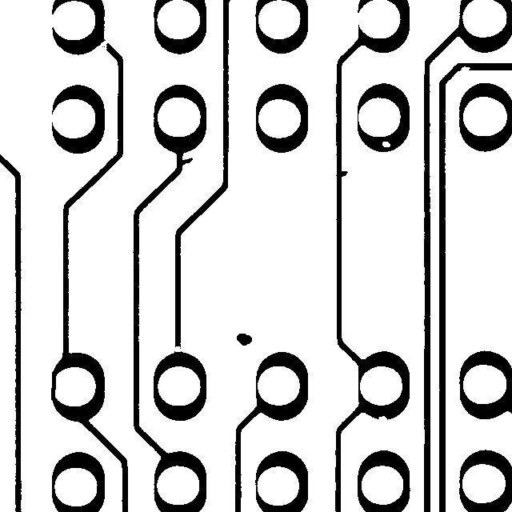copper: (229, 326, 259, 353)
mousebite: (453, 58, 478, 79), (370, 408, 394, 428)
open: (92, 32, 116, 58), (162, 338, 190, 359)
pin-hole: (374, 134, 398, 154)
short: (43, 363, 64, 408)
spur: (171, 150, 200, 176), (332, 163, 354, 183)
